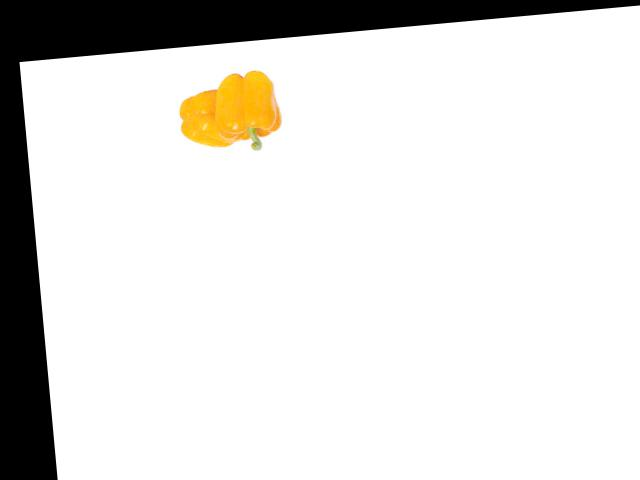bell_pepper: (172, 79, 241, 153)
